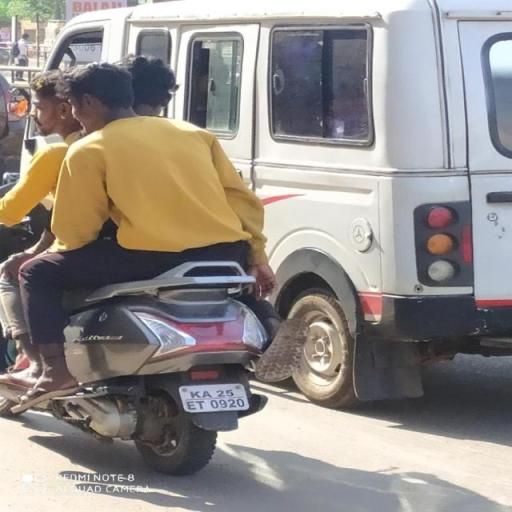tripple riding: (2, 55, 267, 265)
